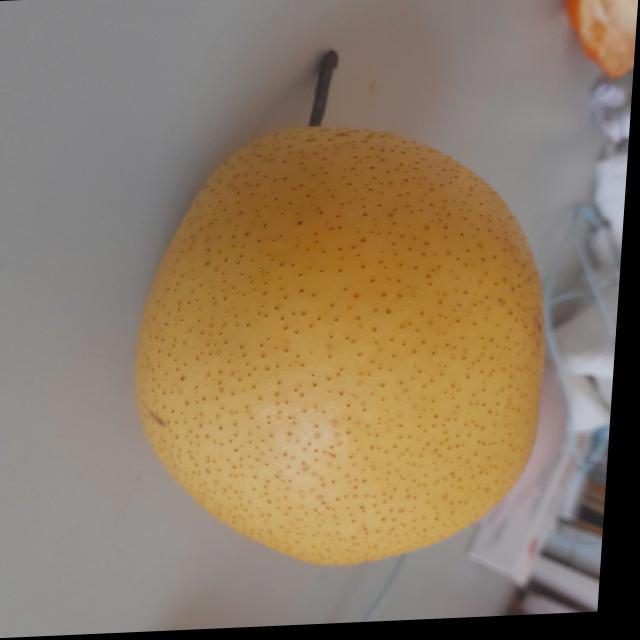Le: (106, 41, 574, 585)
